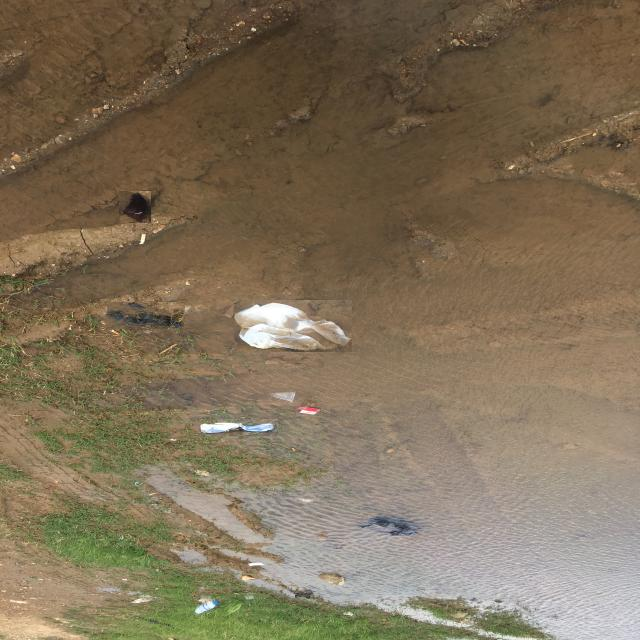Plastic bag: (234, 300, 352, 352), (106, 302, 185, 329), (359, 516, 420, 537), (118, 191, 150, 223)
Plastic bottle: (193, 599, 220, 615)
Plastic cup: (268, 390, 298, 403)
Plastic packaging: (198, 419, 278, 436), (296, 406, 321, 416)
